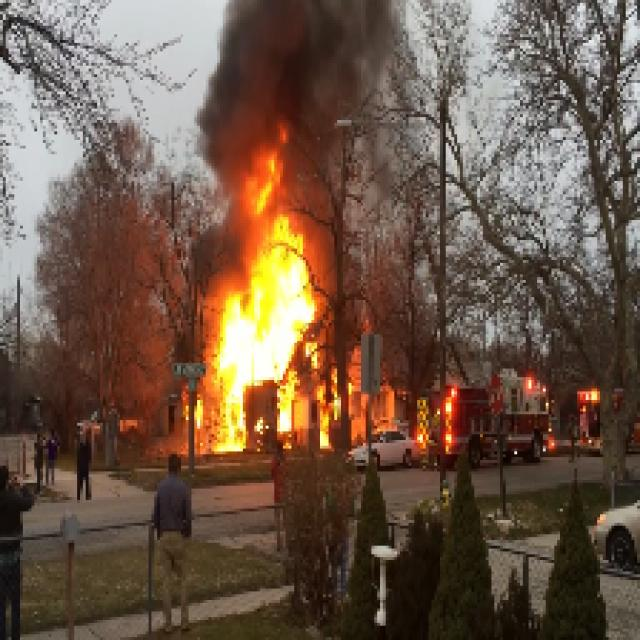fire: (224, 217, 306, 382)
smoke: (232, 0, 366, 129)
